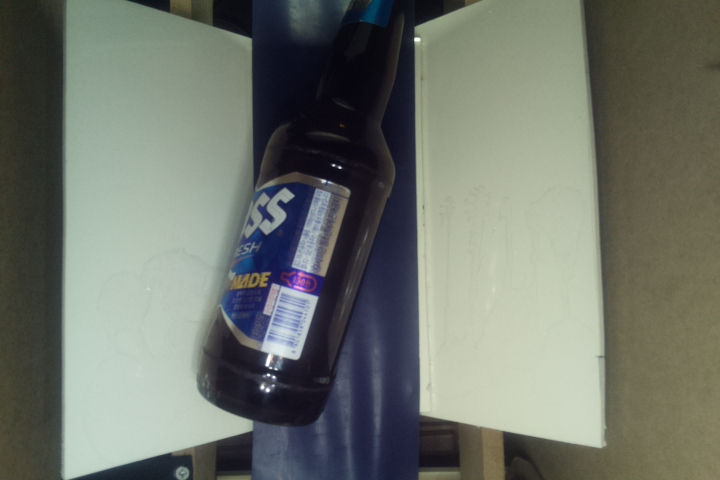makju: (187, 1, 412, 430)
